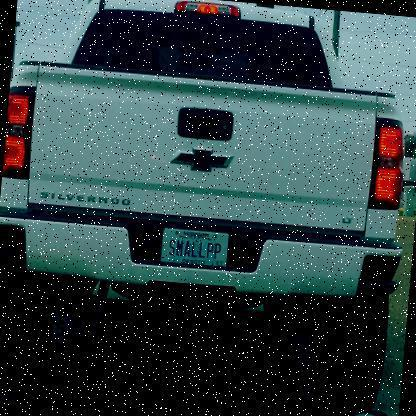License-Plate: (156, 224, 236, 273)
